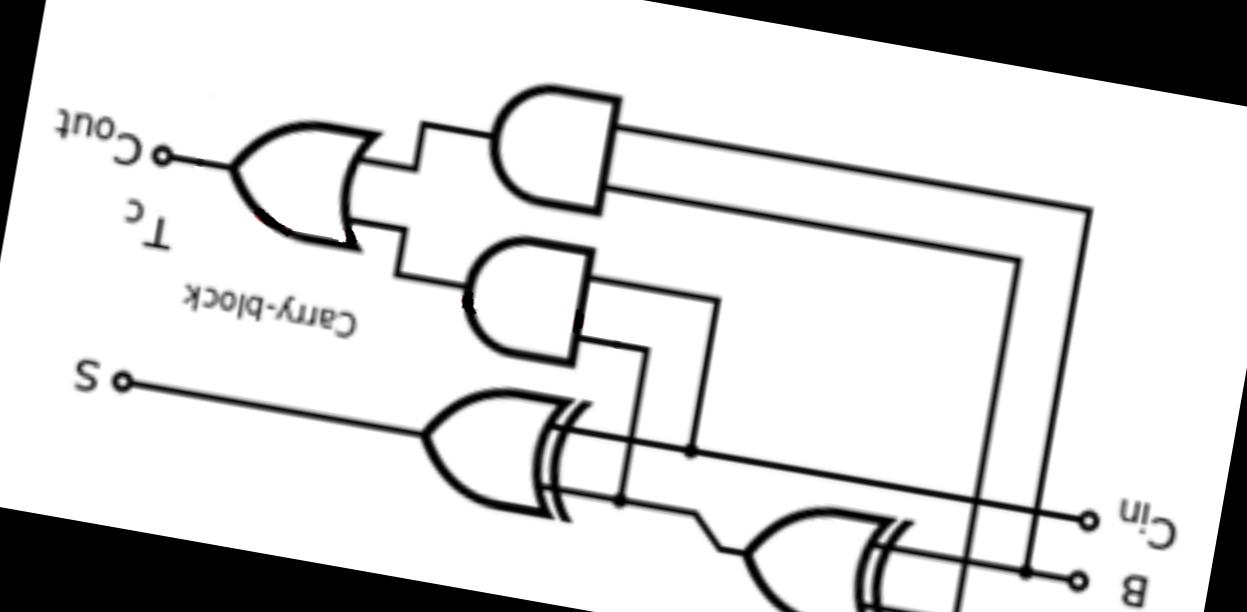and: (467, 56, 638, 233), (440, 215, 608, 380)
or: (208, 83, 392, 269)
xor: (394, 362, 595, 539), (725, 480, 924, 612)
